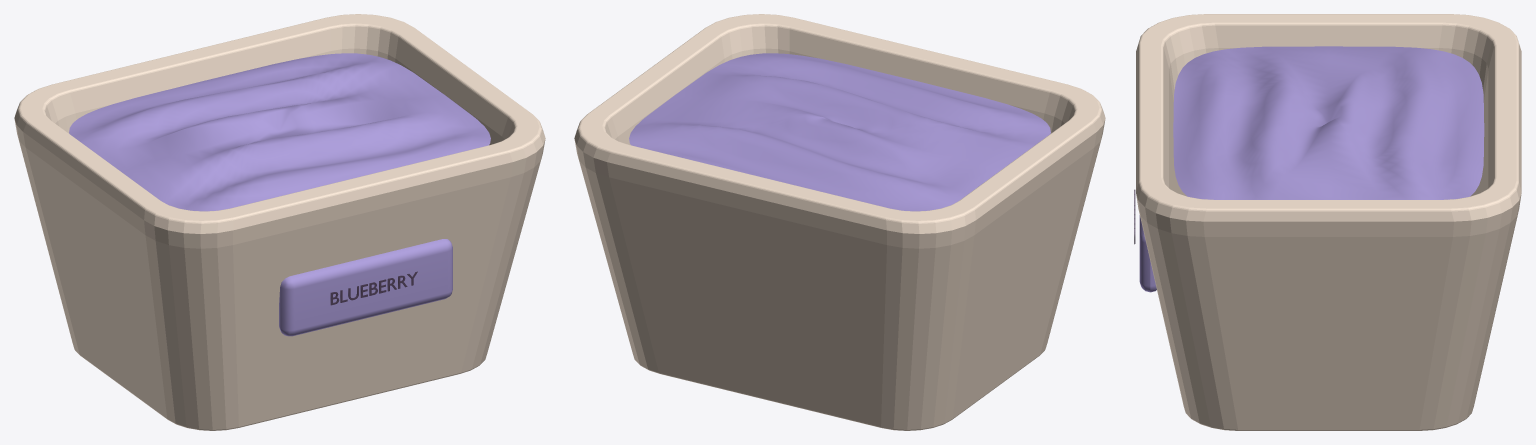
Rendered from Blueberry_tub.fbx.
3 renders of one model, left to right at view 1: azimuth 30°, elevation 25°; view 2: azimuth 150°, elevation 25°; view 3: azimuth 270°, elevation 25°, orthographic. The views are drawn at different scales.
Parts seen in each view (by area): view 1: Toon_Blueberry_tub Rounded reusable tub.001, Toon_Blueberry_tub Ice cream fill.001, Toon_Blueberry_tub Flavor badge.001, Flavor name.012; view 2: Toon_Blueberry_tub Rounded reusable tub.001, Toon_Blueberry_tub Ice cream fill.001; view 3: Toon_Blueberry_tub Rounded reusable tub.001, Toon_Blueberry_tub Ice cream fill.001, Toon_Blueberry_tub Flavor badge.001.
Part boxes in pixels (x1,y1,x2,y2): Toon_Blueberry_tub Rounded reusable tub.001: [14, 14, 545, 430]; Toon_Blueberry_tub Ice cream fill.001: [69, 53, 490, 211]; Toon_Blueberry_tub Flavor badge.001: [279, 239, 452, 336]; Flavor name.012: [330, 271, 417, 305]; Toon_Blueberry_tub Rounded reusable tub.001: [574, 14, 1105, 430]; Toon_Blueberry_tub Ice cream fill.001: [629, 53, 1050, 211]; Toon_Blueberry_tub Rounded reusable tub.001: [1136, 14, 1521, 430]; Toon_Blueberry_tub Ice cream fill.001: [1173, 46, 1484, 199]; Toon_Blueberry_tub Flavor badge.001: [1139, 215, 1156, 292].
Size of the model in its own units: 39 by 22.17 by 32.14.
